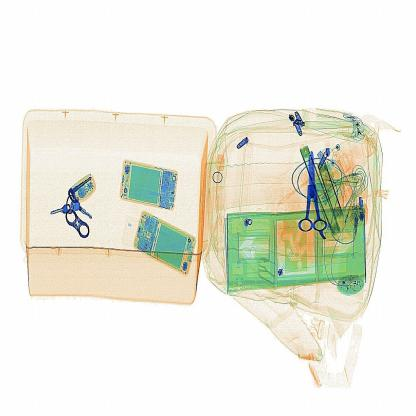gun: (297, 144, 335, 238)
